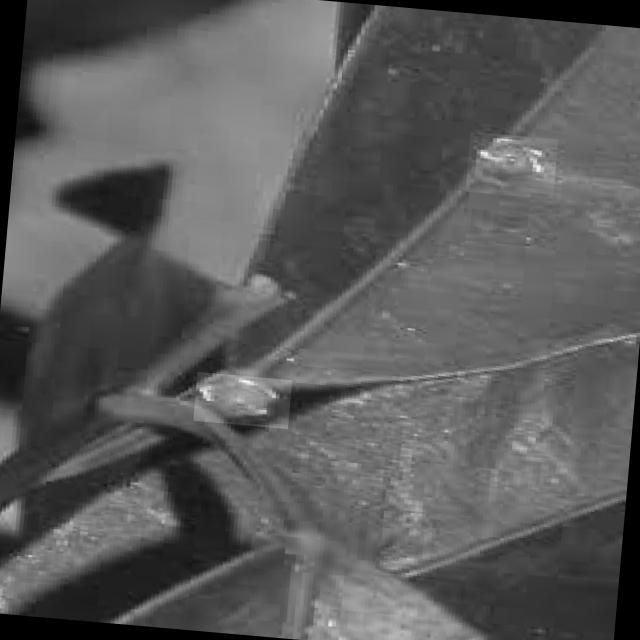scale_insect: (465, 130, 558, 197), (193, 370, 292, 428)
